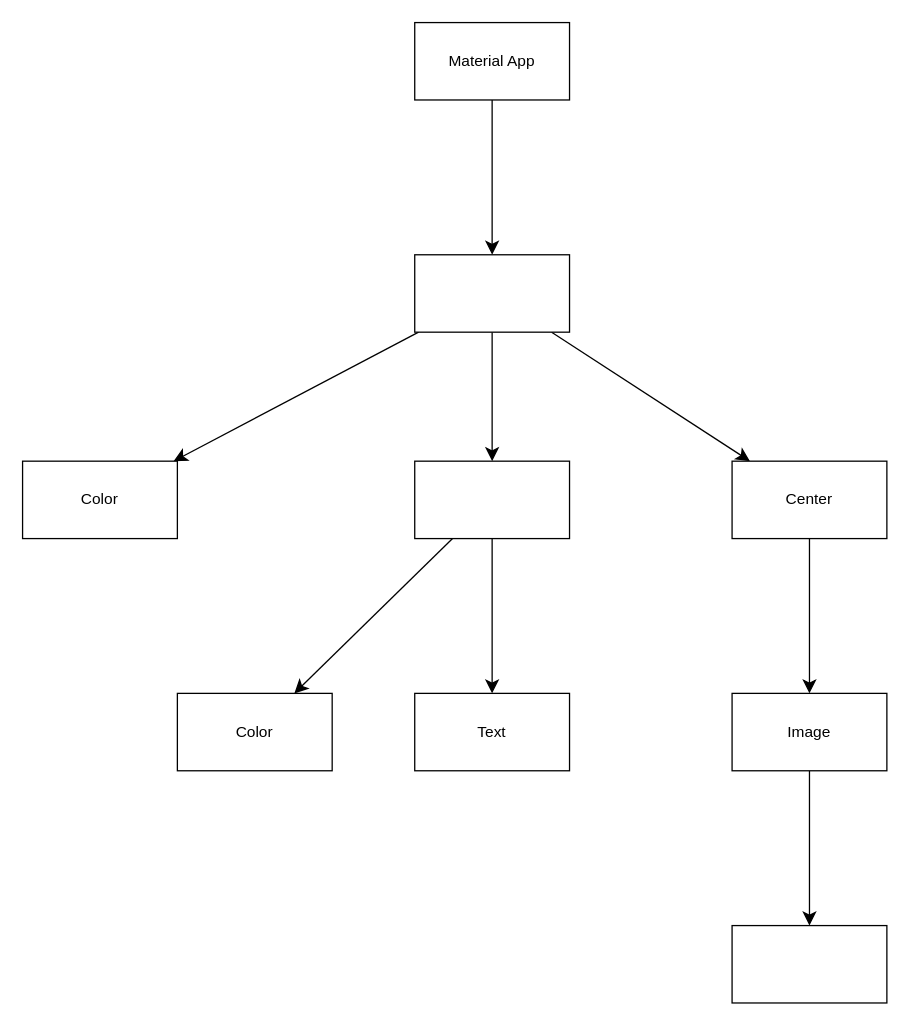
This 909x1026 diagram has some shape labels left out. The shapes that lost their labels are listed below. From the top down, each one's centre as x and y in pixels, then its label:
At point (491, 292): "Scaffold".
At point (491, 499): "AppBar".
At point (809, 963): "Network Image".
